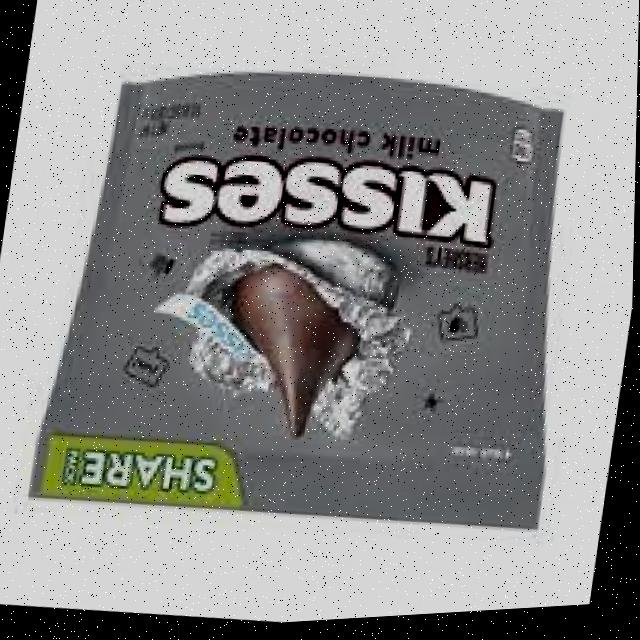kisses: (176, 231, 409, 456)
